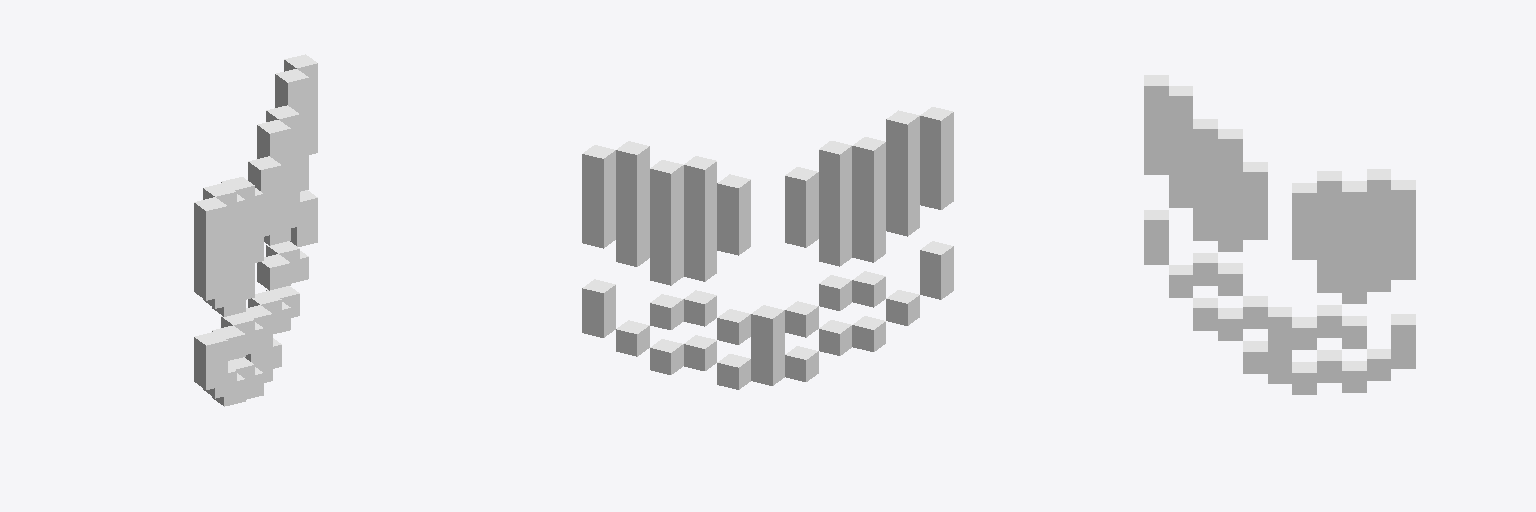
File: FygarGhost2Quarter.obj
3 views of the same model, side by side, from view 1: azimuth 30°, elevation 25°; view 2: azimuth 150°, elevation 25°; view 3: azimuth 270°, elevation 25° (orthographic).
Visible parts, largest first — view 1: FygarGhost2; view 2: FygarGhost2; view 3: FygarGhost2.
Part boxes in pixels (bbox=[...]): FygarGhost2: bbox=[194, 54, 317, 406]; FygarGhost2: bbox=[582, 107, 953, 389]; FygarGhost2: bbox=[1144, 75, 1415, 394].
Size of the model in its own units: 1.1 by 1.1 by 1.1.